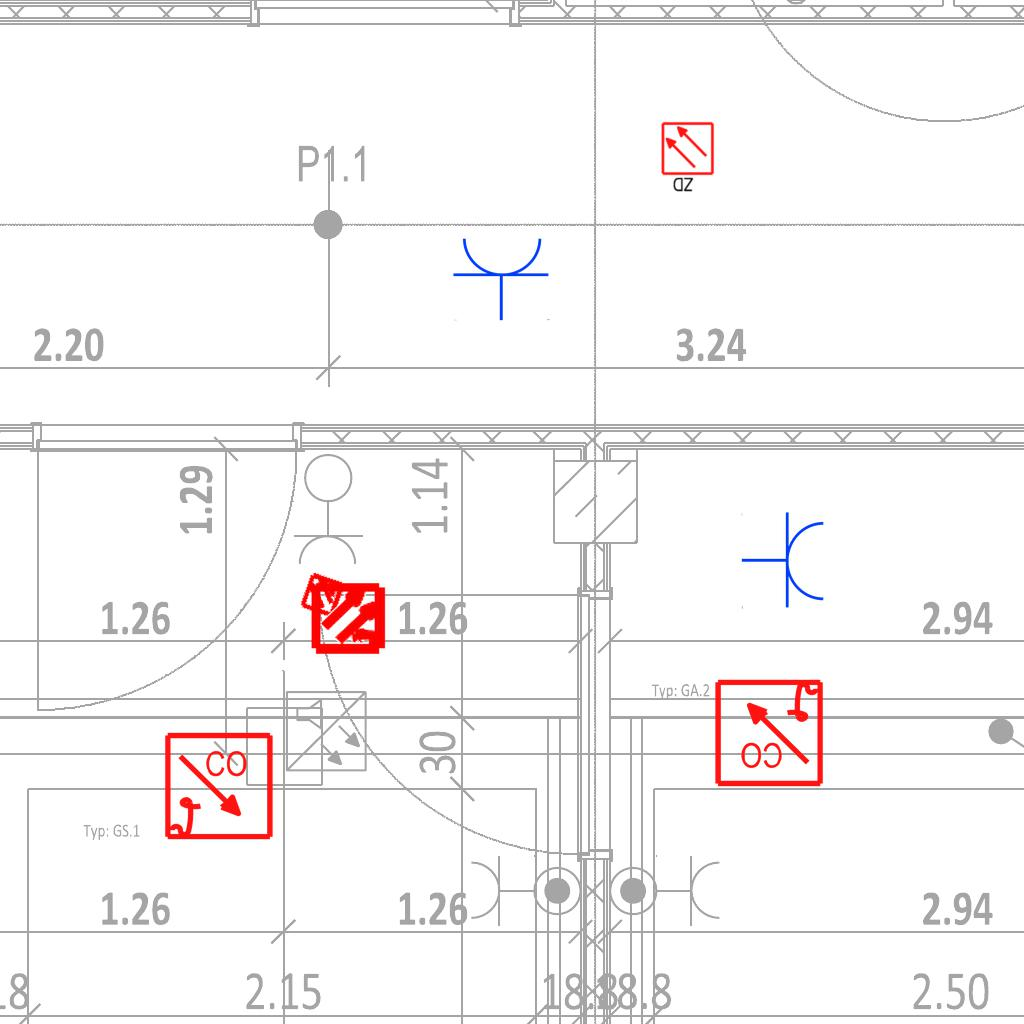OT_Multisensormelder_(Kombination_RMO_WMD): (294, 562, 407, 675), (287, 558, 359, 630)
ROA_Rauchmelder_optisch_mit_Signalgeber_(Sockelsirene): (163, 731, 276, 844), (712, 675, 825, 788)
Schukosteckdose_einfach: (452, 234, 552, 321), (741, 511, 828, 611)
ZD_Melder_in_Zwischendecke_mit_Revisionsoeffnung_mind_40_x_40_cm: (660, 121, 717, 195)
